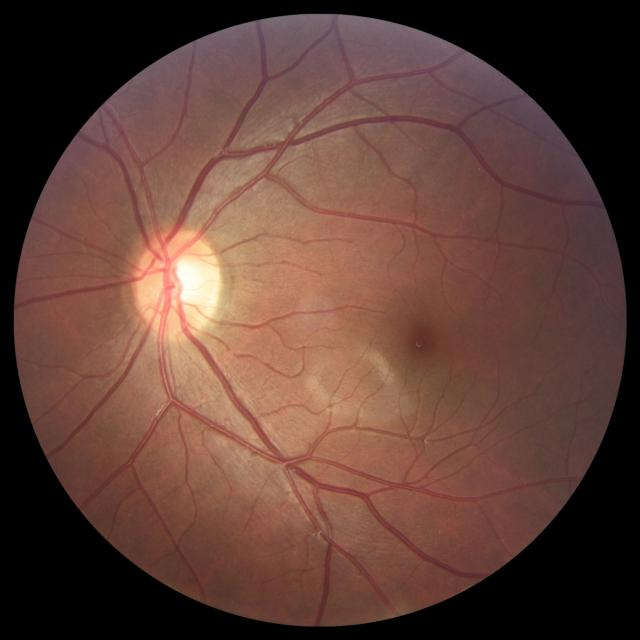OC: (158, 254, 214, 312)
OD: (134, 230, 221, 340)
